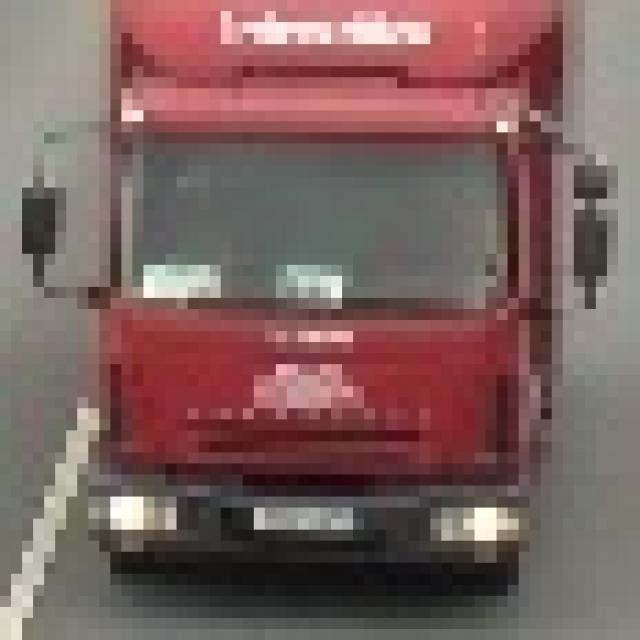Truck: (0, 0, 596, 585)
